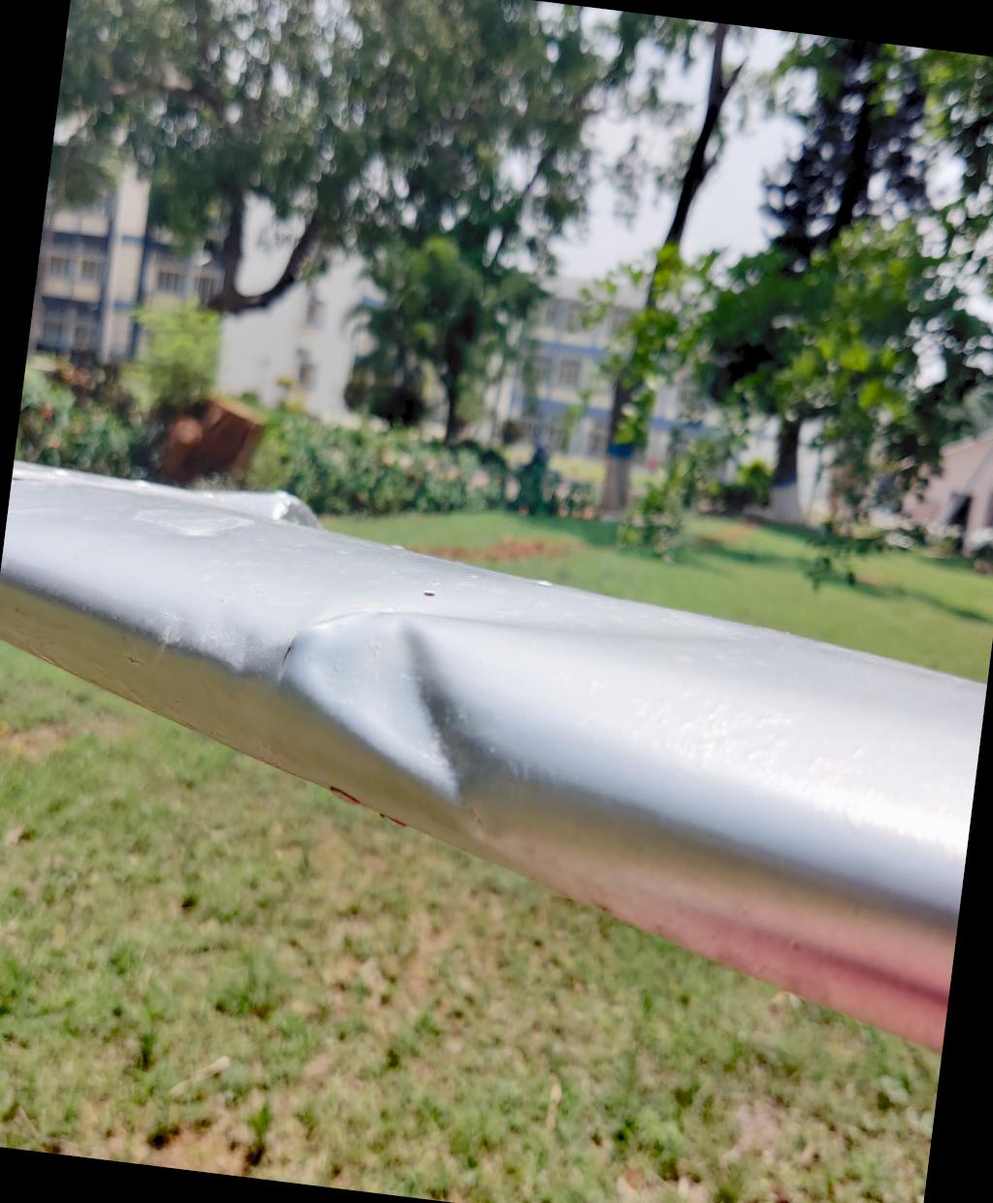crack: (263, 614, 316, 695)
dent: (279, 584, 527, 847)
